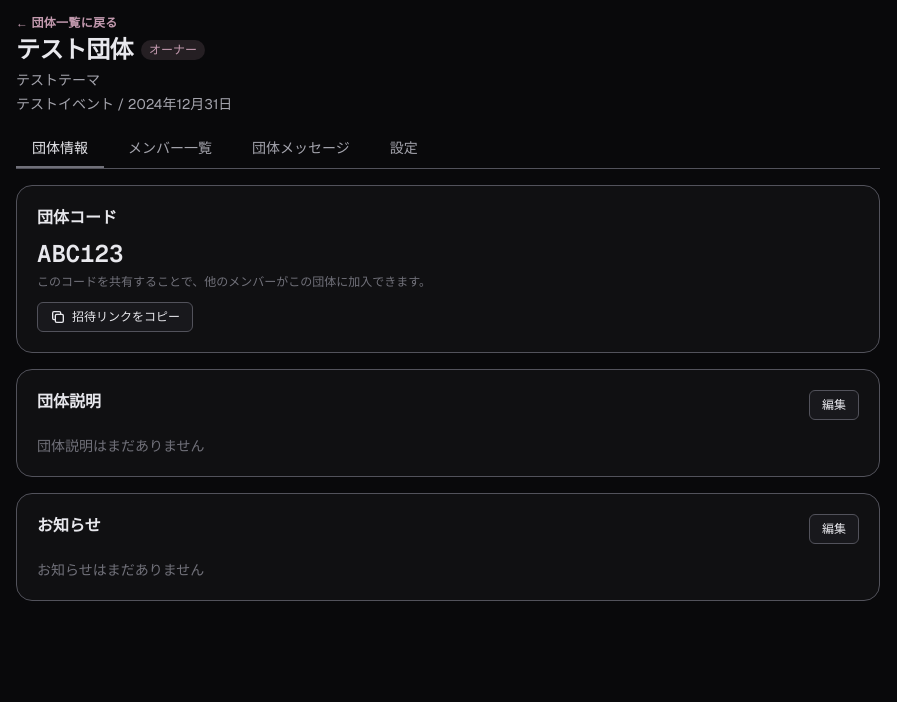
Test: GroupDetailPage › メッセージ機能 › 文字数カウンターを表示する
This screenshot has width=897, height=702.
expect the heading "テスト団体" is shown: met, box [16,34,133,66]
Click the text "団体メッセージ" at (301, 148), box [252,139,350,157]
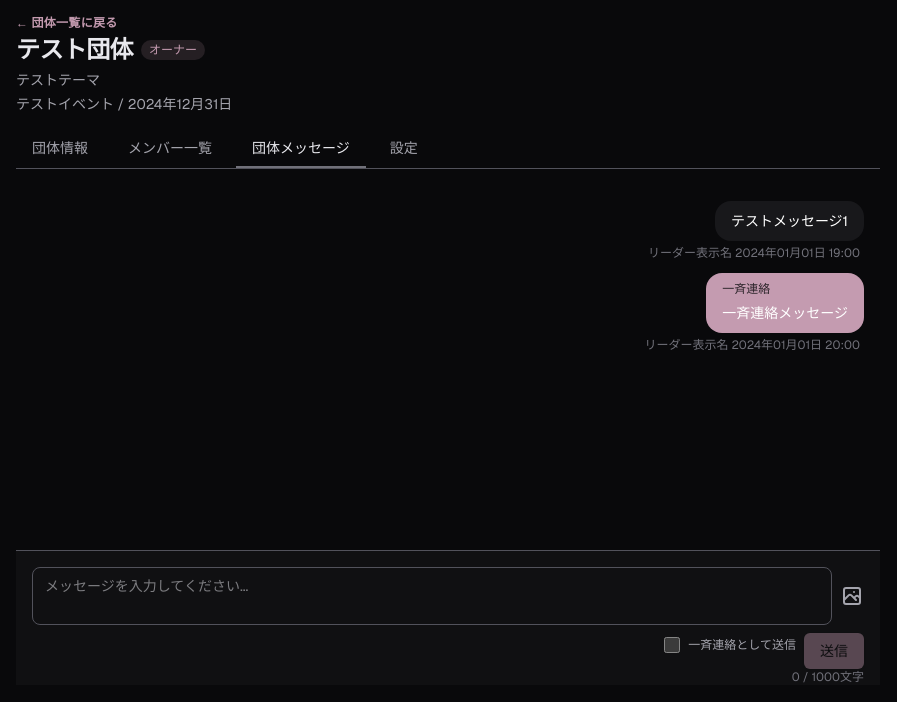
expect the text "0 / 1000文字" is shown: met, box [792,669,864,685]
Type "テスト" into the text box with placeholder "メッセージを入力してください..." at (432, 596), box [32,567,832,625]
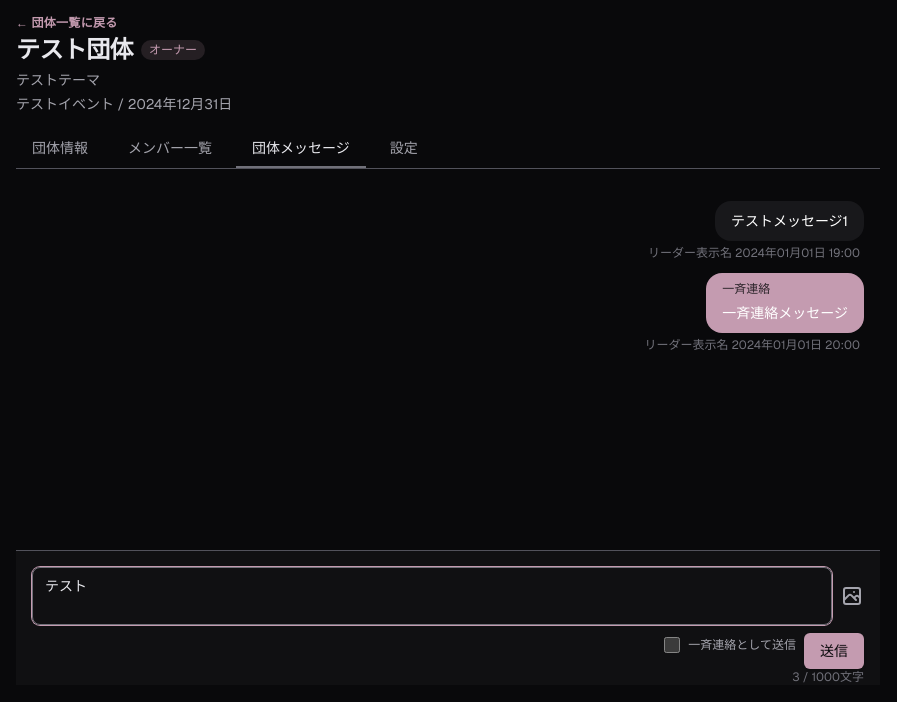
expect the text "3 / 1000文字" is shown: met, box [792,669,864,685]
